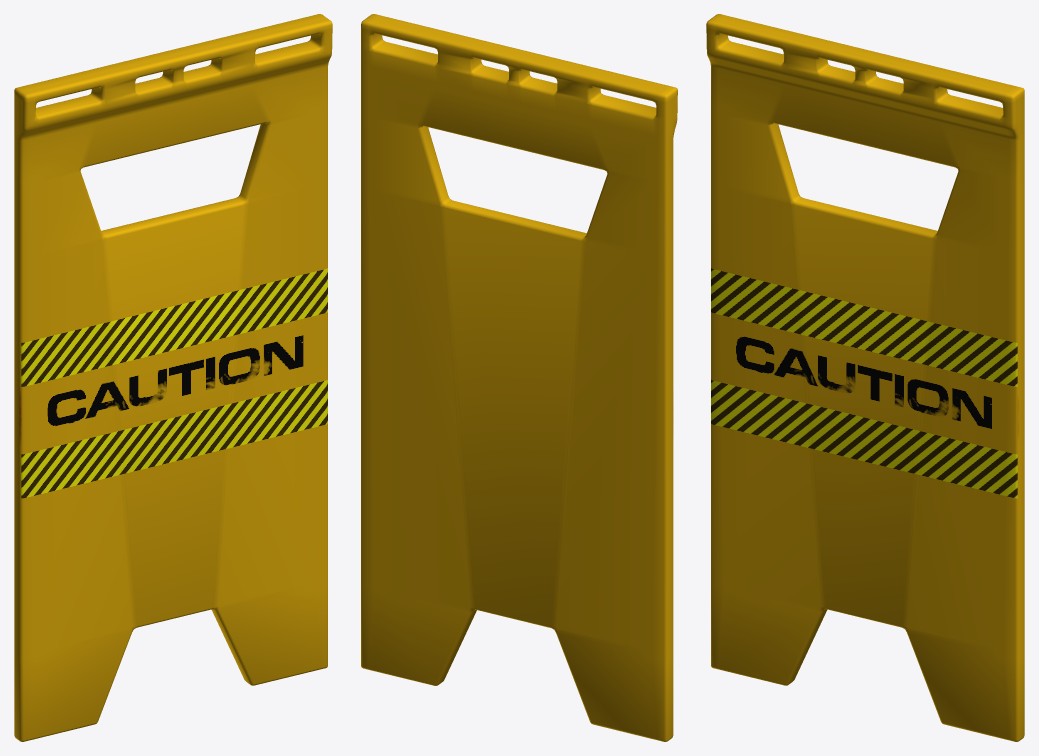
Rendered from caution2.fbx.
3 renders of one model, left to right at view 1: azimuth 30°, elevation 25°; view 2: azimuth 150°, elevation 25°; view 3: azimuth 330°, elevation 25°, orthographic.
Visible parts, largest first — view 1: caution2; view 2: caution2; view 3: caution2.
Boxes of the visible parts, box(x1,y1,x2,y2) form: caution2: box(14, 14, 332, 741); caution2: box(361, 14, 677, 741); caution2: box(706, 14, 1024, 741).
Size of the model in its own units: 39.58 by 79.84 by 2.81.
